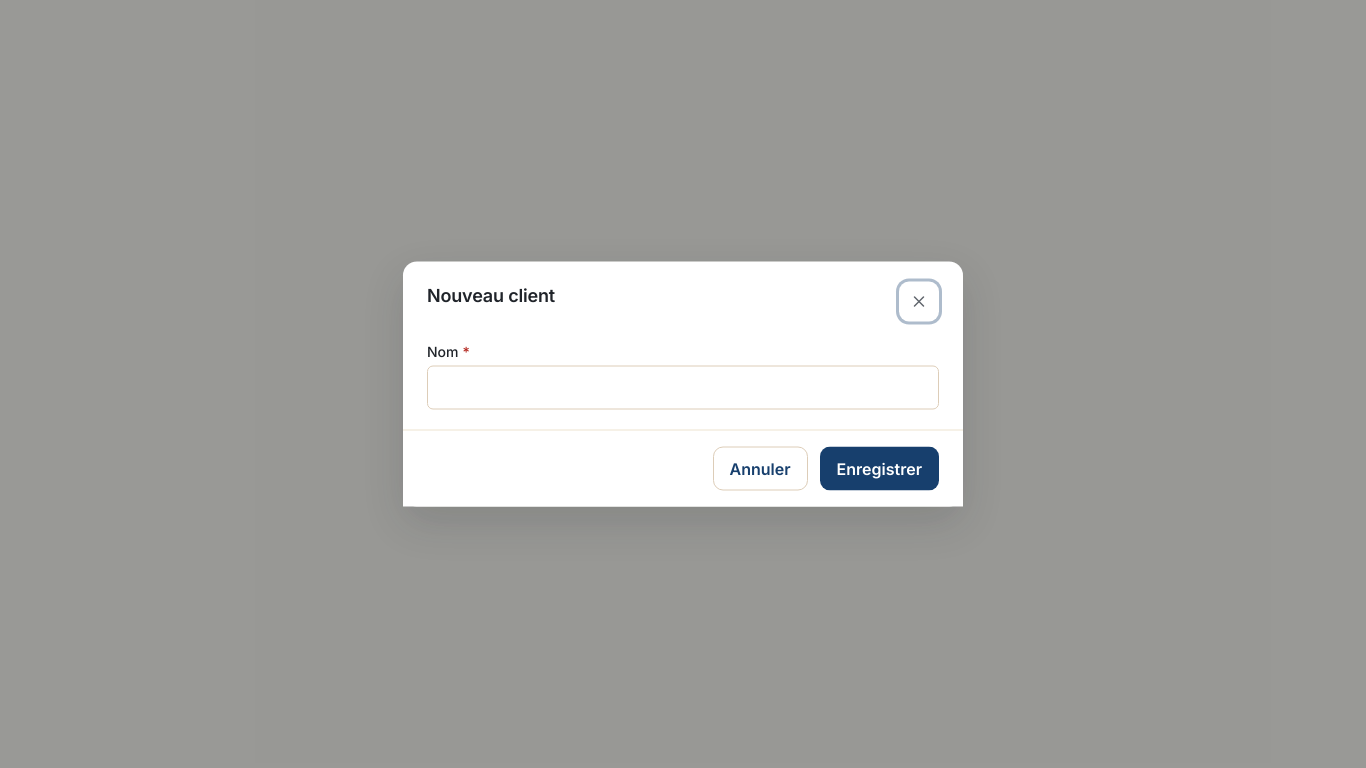
Test: FormDialog › maps server field errors onto the fields
Type "Salma" into the field labelled "Nom*".
click(683, 388); type("Salma")  # box 428,366 -> 938,408
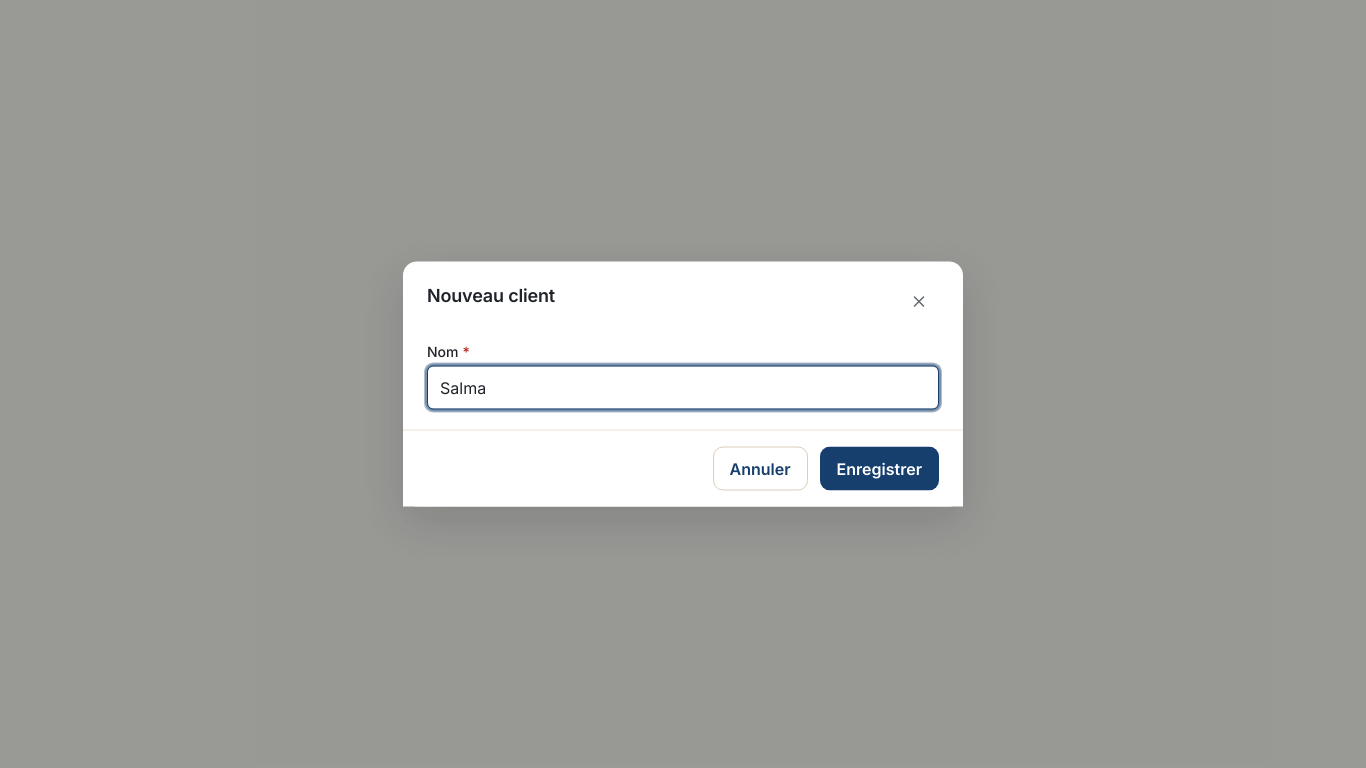
Click the button "Enregistrer".
click(879, 468)  # box 820,446 -> 939,490
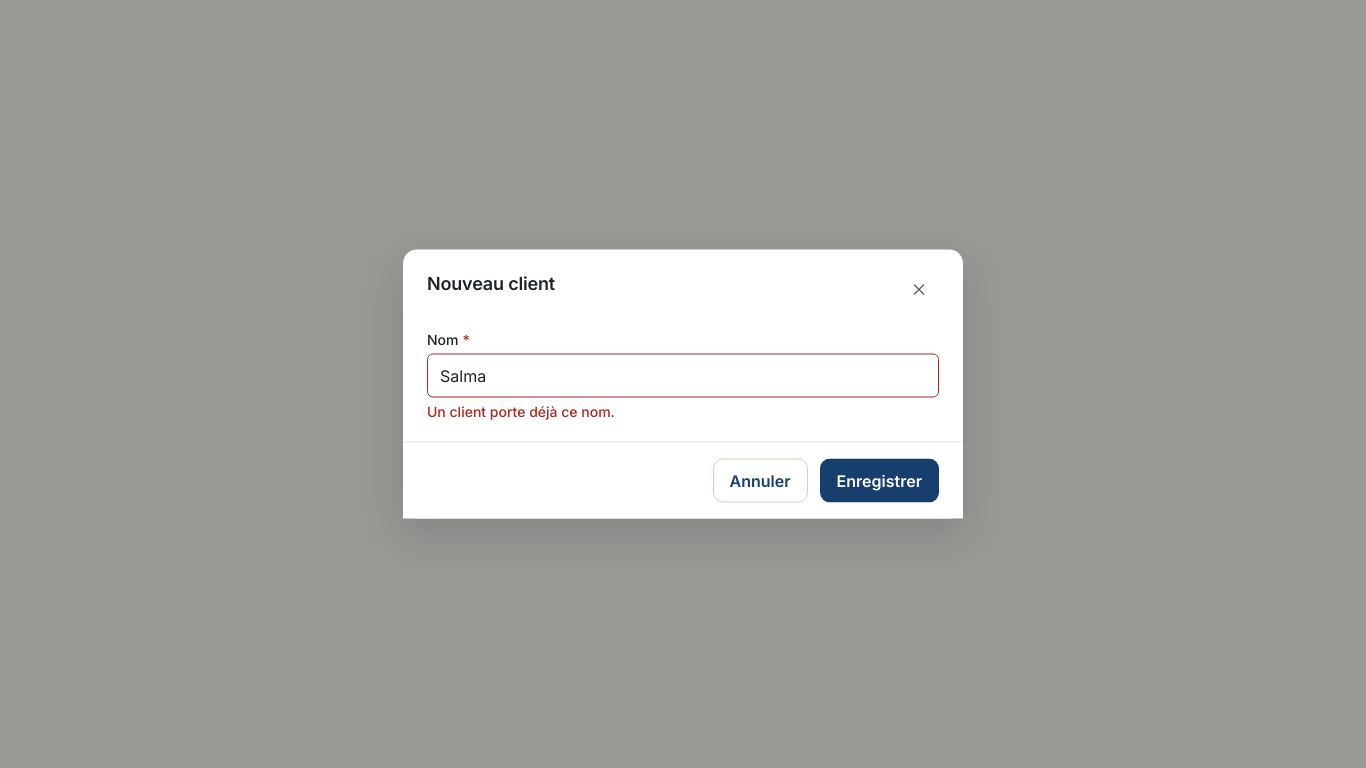
Result: the text "Un client porte déjà ce nom." is shown at 427,402 -> 615,420
